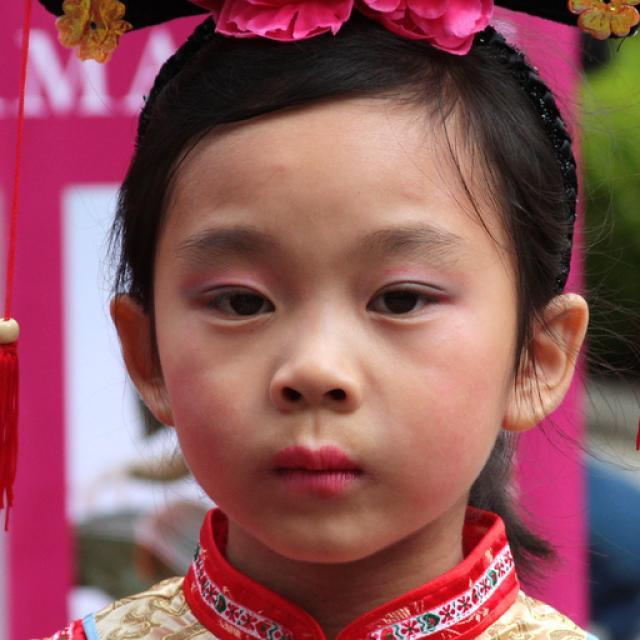neutral: (154, 96, 520, 564)
